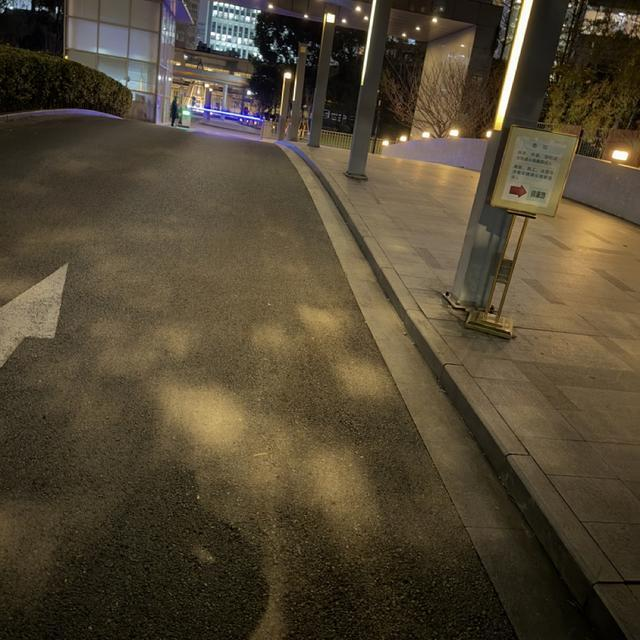curb: (298, 151, 639, 639), (0, 108, 122, 123)
